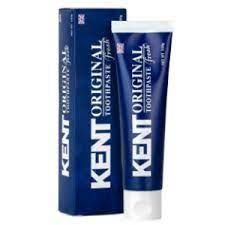toothpaste: (109, 20, 173, 225)
